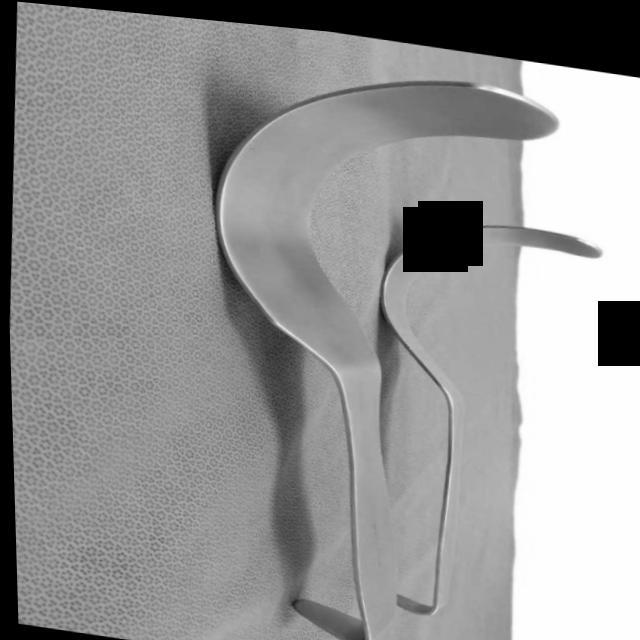Deaver Retractor: (170, 23, 575, 640), (354, 192, 620, 638)
